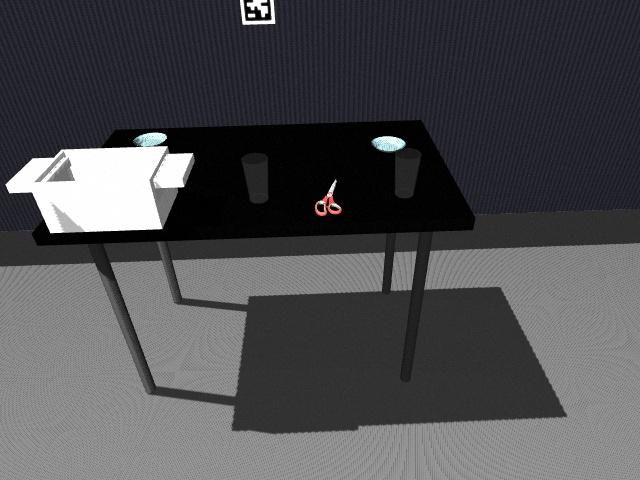cup: (394, 148, 422, 199), (241, 153, 269, 203)
plate: (371, 136, 406, 153), (132, 133, 167, 147)
scissors: (315, 178, 341, 216)
